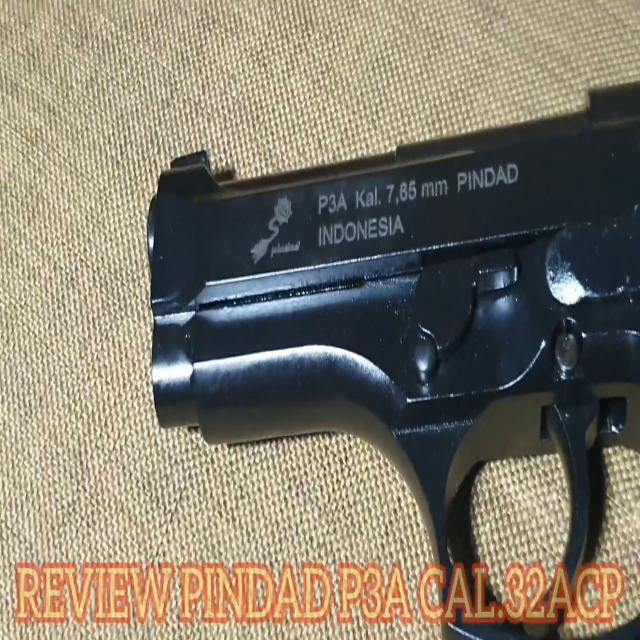handgun: (132, 59, 640, 552)
